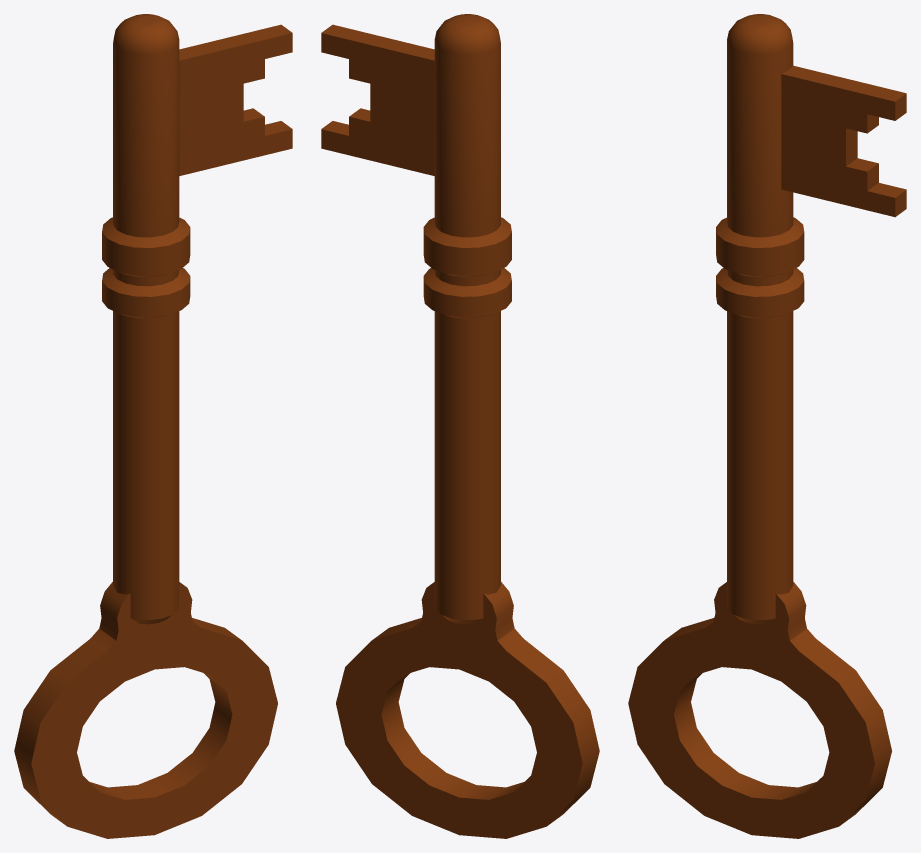
Rendered from Key.fbx.
3 views of the same model, side by side, from view 1: azimuth 30°, elevation 25°; view 2: azimuth 150°, elevation 25°; view 3: azimuth 330°, elevation 25° (orthographic).
Visible parts, largest first — view 1: Unknown; view 2: Unknown; view 3: Unknown.
Part boxes in pixels (x1,y1,x2,y2): Unknown: [14, 14, 292, 838]; Unknown: [321, 14, 599, 838]; Unknown: [628, 14, 906, 838].
Size of the model in its own units: 52.73 by 154 by 15.38.
